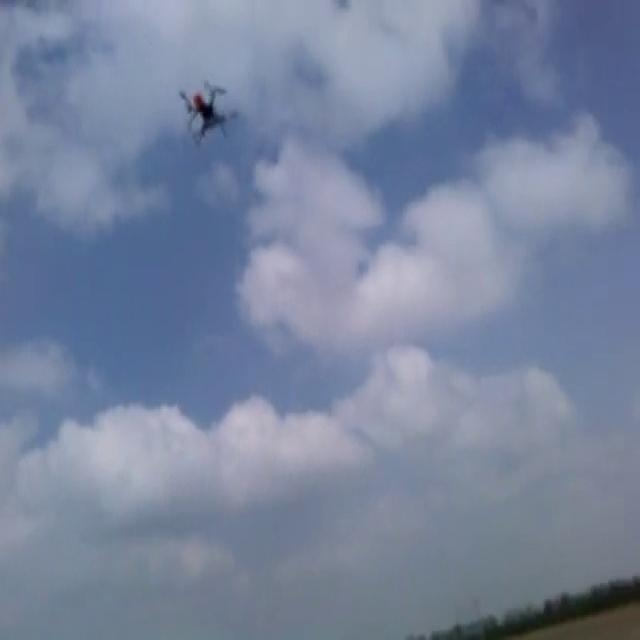drone: (174, 71, 240, 153)
